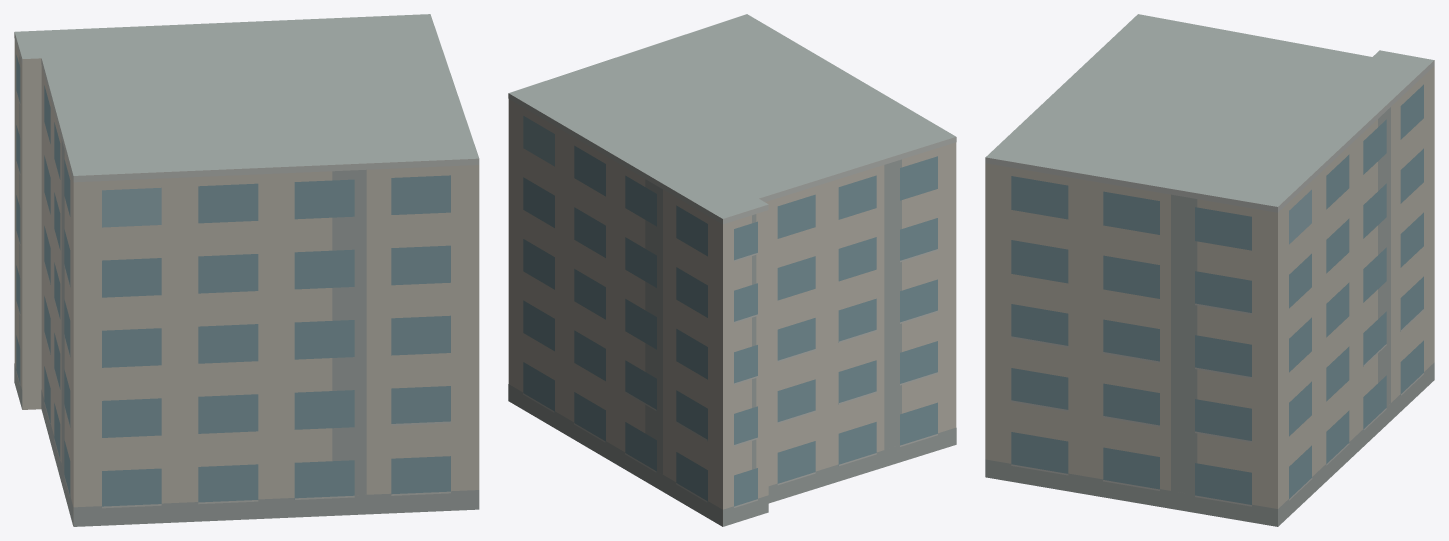
File: survey-upis-32808072.glb
The picture shows the model from 3 angles, left to right: view 1: azimuth 30°, elevation 25°; view 2: azimuth 150°, elevation 25°; view 3: azimuth 270°, elevation 25°; orthographic projection. The views are drawn at different scales.
Parts seen in each view (by area): view 1: survey-upis-32808072.tmp; view 2: survey-upis-32808072.tmp; view 3: survey-upis-32808072.tmp.
Boxes of the visible parts, x1,y1,x2,y2 form: survey-upis-32808072.tmp: [14, 14, 479, 526]; survey-upis-32808072.tmp: [508, 14, 956, 526]; survey-upis-32808072.tmp: [985, 14, 1434, 526].
Size of the model in its own units: 17.47 by 13.5 by 17.18.
